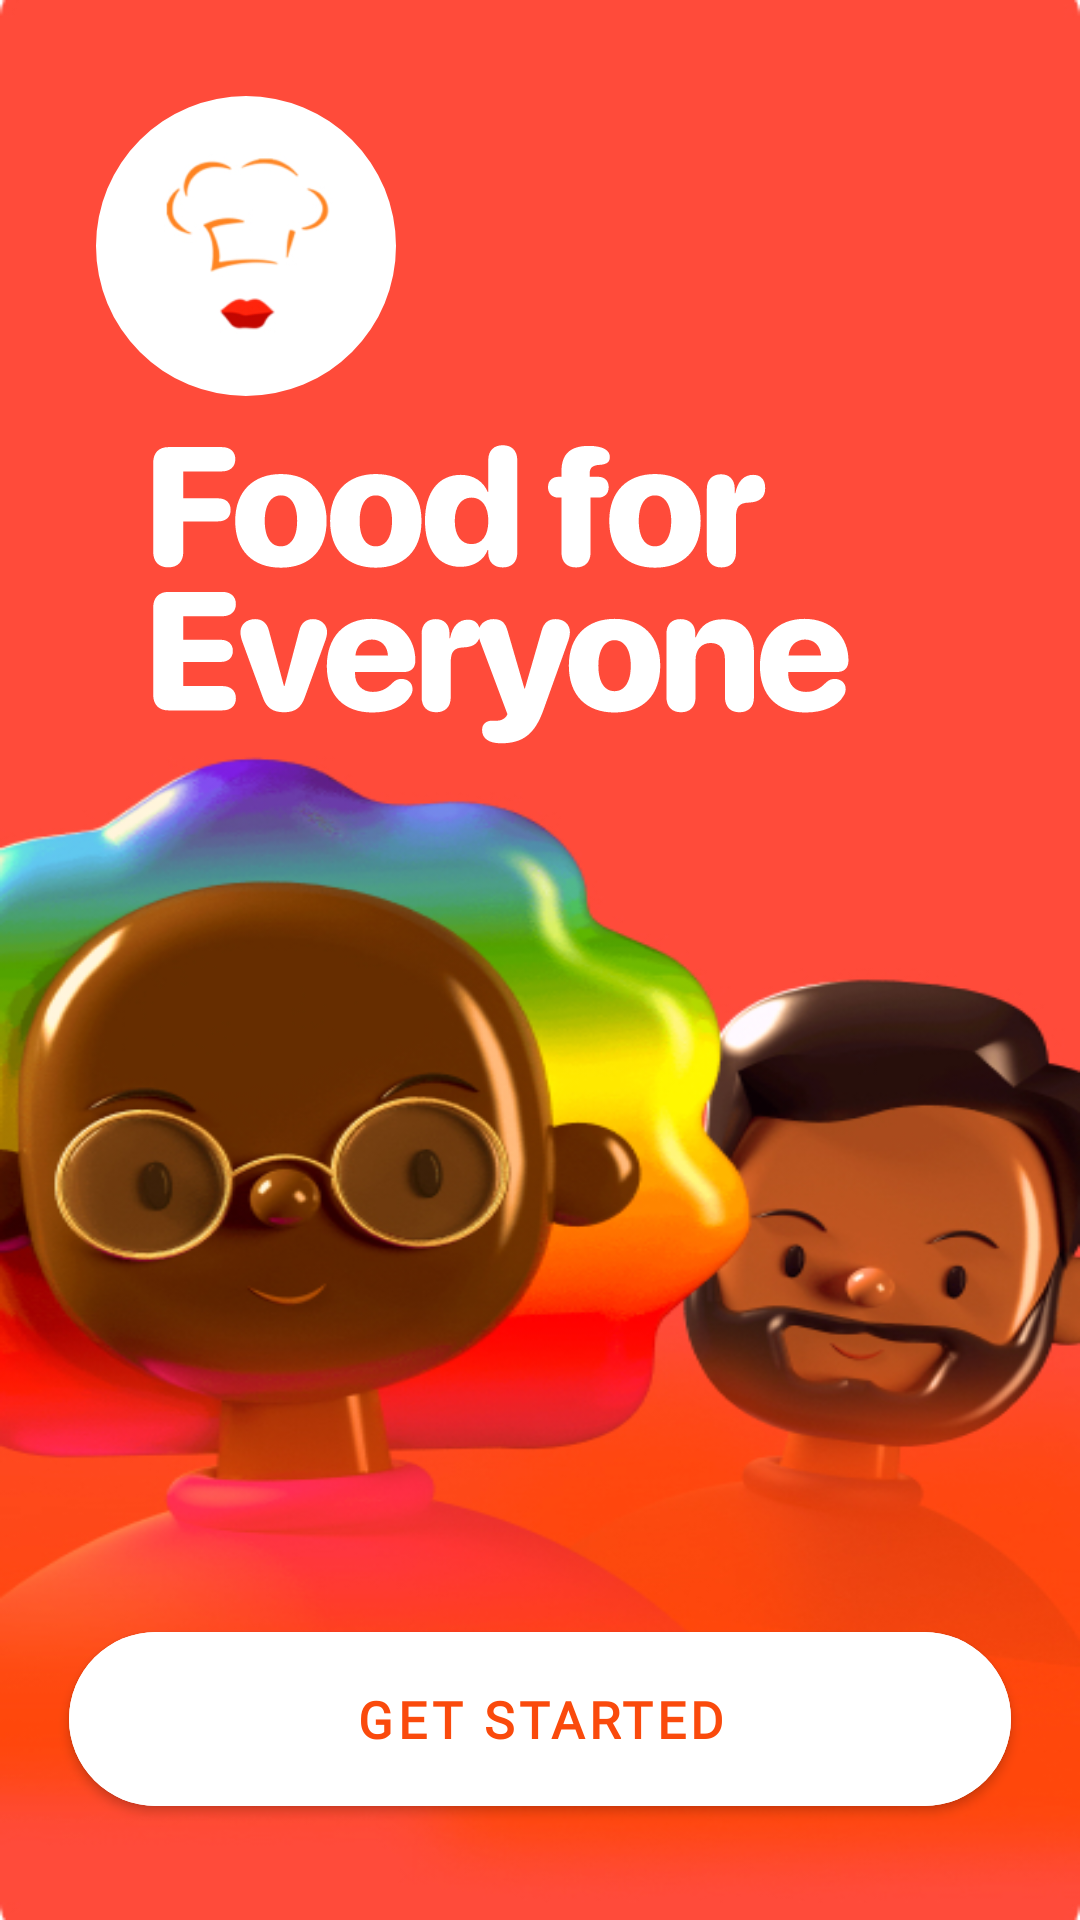

Icons on this 1080 x 1920 Android screen, each with its box as bbox(x1, y1, x2, y2):
smallicon: bbox(96, 96, 396, 396)
